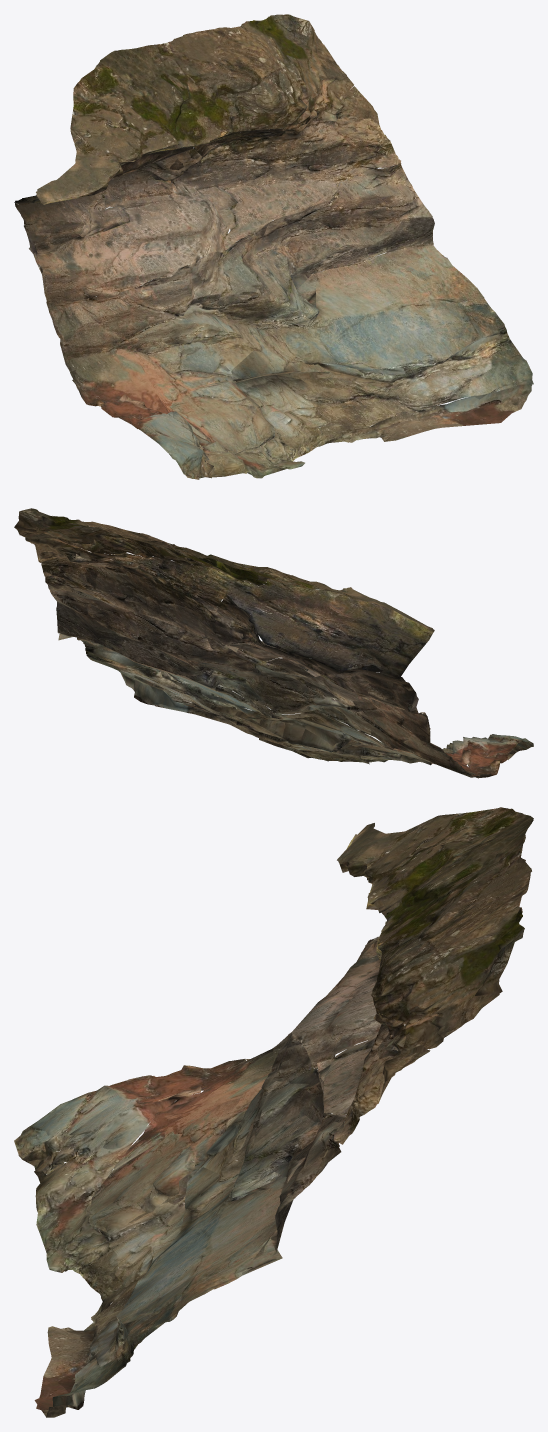
The model's file is rock_face_01.glb.
The picture shows the model from 3 angles, top to bottom: view 1: azimuth 30°, elevation 25°; view 2: azimuth 150°, elevation 25°; view 3: azimuth 270°, elevation 25°; orthographic projection. The views are drawn at different scales.
Parts seen in each view (by area): view 1: rock_face_01_v0_near, rock_face_01_v0_far; view 2: rock_face_01_v0_far, rock_face_01_v0_near; view 3: rock_face_01_v0_near, rock_face_01_v0_far.
Boxes of the visible parts, bbox=[...] form: rock_face_01_v0_near: bbox=[14, 14, 532, 479]; rock_face_01_v0_far: bbox=[16, 16, 533, 479]; rock_face_01_v0_far: bbox=[14, 510, 533, 775]; rock_face_01_v0_near: bbox=[15, 508, 533, 778]; rock_face_01_v0_near: bbox=[15, 807, 533, 1417]; rock_face_01_v0_far: bbox=[14, 808, 533, 1412].
Bounding box in the file's own units: 4.95 × 3.58 × 3.83.
Materials: 1 (1 with a texture image).
